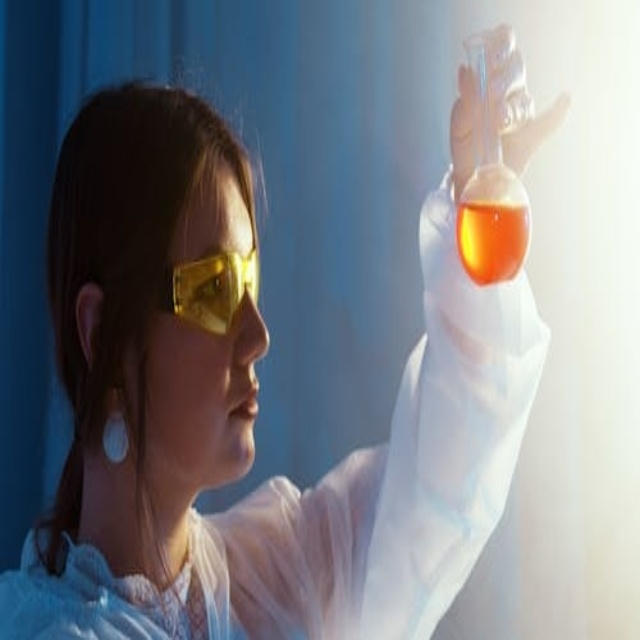Gafas: (162, 244, 261, 336)
Sin_guantes: (449, 23, 573, 205)
Sin_mascara: (201, 371, 266, 481)
